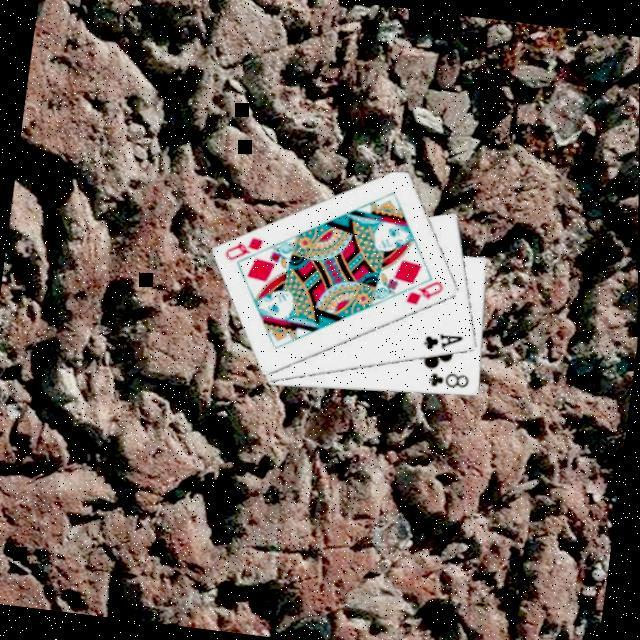8C: (426, 369, 474, 396)
AC: (419, 330, 467, 359)
QD: (221, 232, 268, 269), (402, 276, 448, 313)
